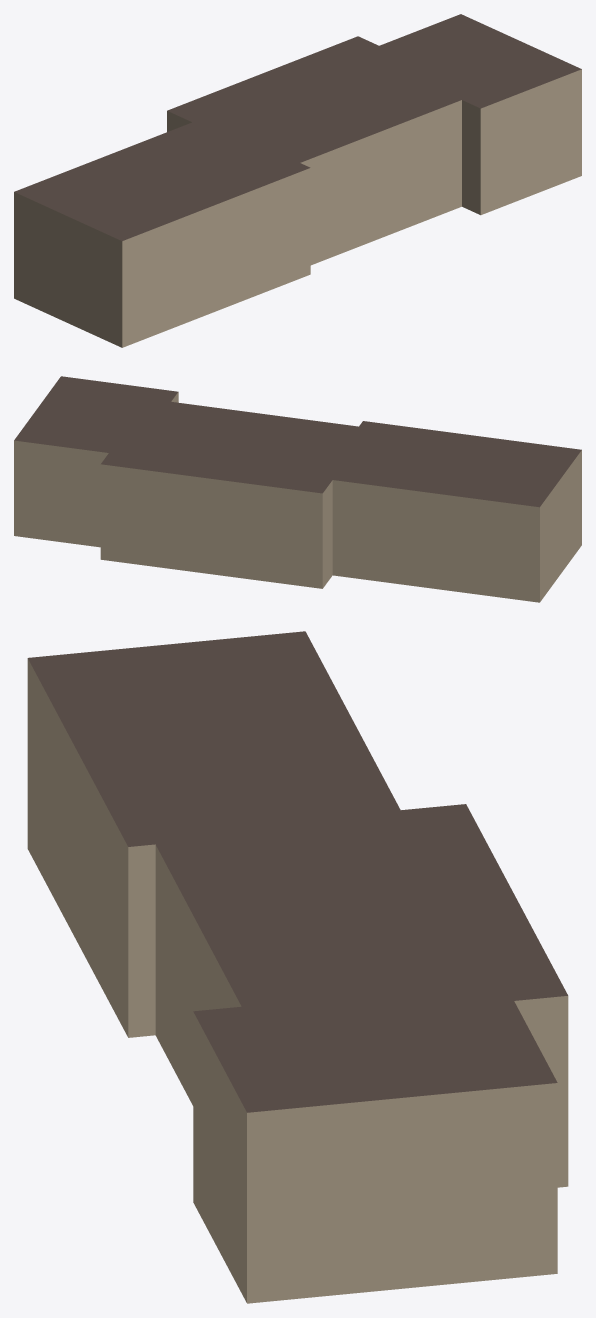
3 renders of one model, top to bottom at view 1: azimuth 30°, elevation 25°; view 2: azimuth 150°, elevation 25°; view 3: azimuth 270°, elevation 25°, orthographic. The views are drawn at different scales.
Visible parts, largest first — view 1: HP-w299010054; view 2: HP-w299010054; view 3: HP-w299010054.
Boxes of the visible parts, left/top/right/bottom form: HP-w299010054: left=14, top=14, right=581, bottom=347; HP-w299010054: left=14, top=376, right=581, bottom=602; HP-w299010054: left=27, top=631, right=568, bottom=1303.
Bounding box in the file's own units: 48.69 × 9 × 23.11.
